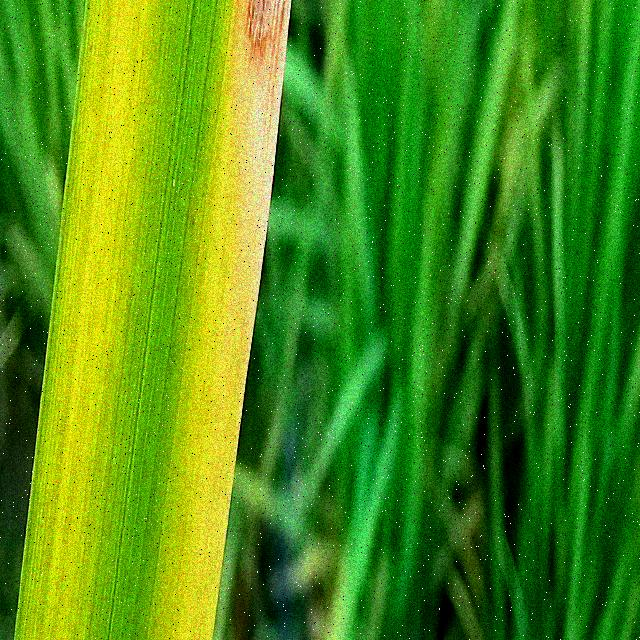LEAF BLAST: (249, 0, 287, 104)
